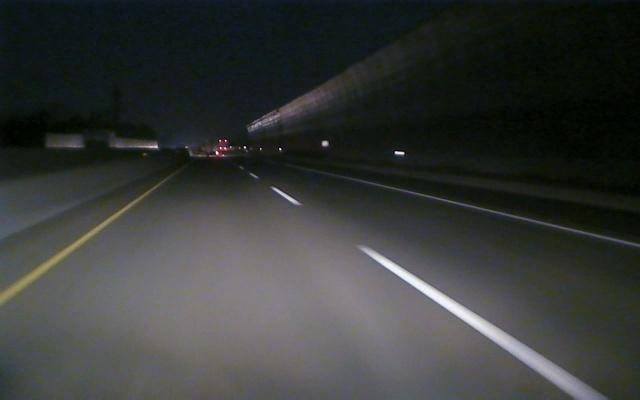lane: (268, 185, 610, 399), (351, 176, 640, 248), (2, 181, 164, 304)
